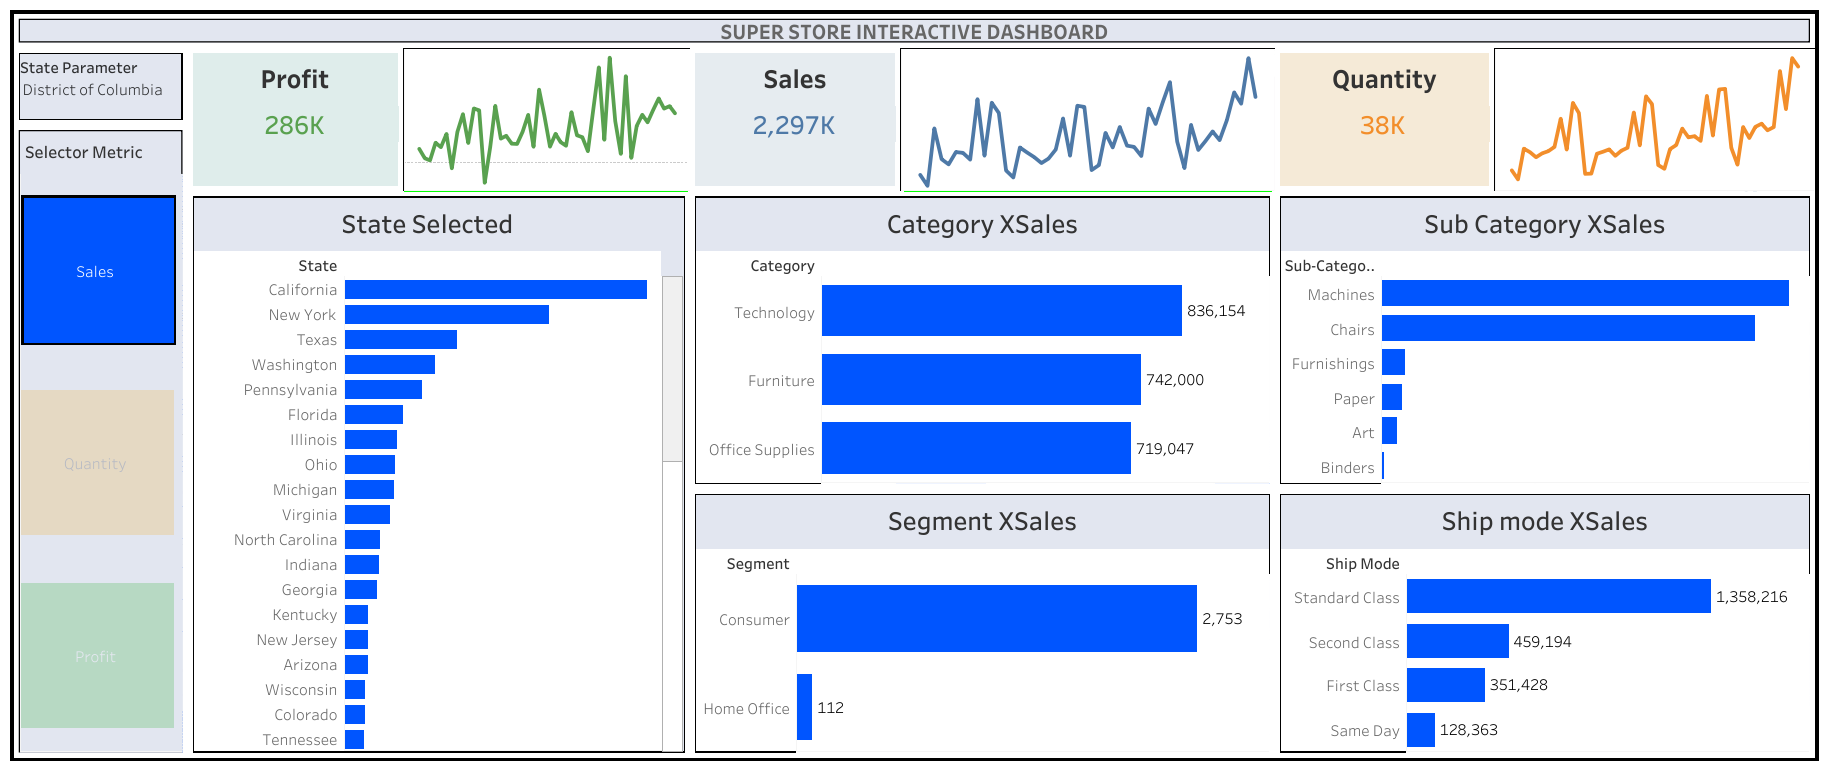

Layout of this report page (visuals, bound fields, positions):
{"tool":"tableau","page":{"name":"Dashboard 1","canvas":[1000,1000],"units":"permille","ordinal":0},"visuals":[{"type":"text","box":[6.6,13.7,986.7,44.9]},{"type":"parameter","param":"[Parameters].[State Parameter]","box":[6.6,58.6,95.1,100]},{"type":"worksheet","title":"Profit","mark":"Automatic","box":[101.8,58.6,118.1,187.7]},{"type":"worksheet","title":"Profit Analysis","mark":"Automatic","rows":["Profit"],"cols":["Order Date"],"box":[219.8,58.6,157.5,187.7]},{"type":"worksheet","title":"Sales","mark":"Automatic","box":[377.3,58.6,114.5,187.7]},{"type":"worksheet","title":"Sales Analysis","mark":"Automatic","rows":["Sales"],"cols":["Order Date"],"box":[491.8,58.6,205.8,187.7]},{"type":"worksheet","title":"Quantity","mark":"Automatic","box":[697.6,58.6,120,187.7]},{"type":"worksheet","title":"Quantity Analysis","mark":"Automatic","rows":["Quantity"],"cols":["Order Date"],"box":[817.7,58.6,175.7,187.7]},{"type":"worksheet","title":"Selector Metric","mark":"Automatic","cols":["Calculation_429530840690499587"],"box":[6.6,158.6,95.1,827.7]},{"type":"worksheet","title":"State Selected","mark":"Automatic","rows":["State"],"cols":["Calculation_429530840681959424"],"box":[101.8,246.3,275.4,740]},{"type":"worksheet","title":"Category X","mark":"Automatic","rows":["Category"],"cols":["Calculation_429530840681959424"],"box":[377.2,246.3,320.4,389.1]},{"type":"worksheet","title":"Sub Category X","mark":"Automatic","rows":["Sub-Category"],"cols":["Calculation_429530840681959424"],"box":[697.6,246.3,295.8,389.1]},{"type":"worksheet","title":"Segment X","mark":"Automatic","rows":["Segment"],"cols":["Calculation_429530840681959424"],"box":[377.2,635.4,320.4,350.9]},{"type":"worksheet","title":"Ship mode X","mark":"Automatic","rows":["Ship Mode"],"cols":["Calculation_429530840681959424"],"box":[697.6,635.4,295.8,350.9]}]}

Visuals, with their boxes on the dashboard's canvas, which has no fixed pixel size, in thousandths of its width and height (x1, y1, x2, y2). These are canvas units, not pixel positions in the 1828x770 screenshot, which may show the page scaled, cropped or inside an application window:
text: <bbox>7, 14, 993, 59</bbox>
parameter: <bbox>7, 59, 102, 159</bbox>
"Profit" worksheet: <bbox>102, 59, 220, 246</bbox>
"Profit Analysis" worksheet: <bbox>220, 59, 377, 246</bbox>
"Sales" worksheet: <bbox>377, 59, 492, 246</bbox>
"Sales Analysis" worksheet: <bbox>492, 59, 698, 246</bbox>
"Quantity" worksheet: <bbox>698, 59, 818, 246</bbox>
"Quantity Analysis" worksheet: <bbox>818, 59, 993, 246</bbox>
"Selector Metric" worksheet: <bbox>7, 159, 102, 986</bbox>
"State Selected" worksheet: <bbox>102, 246, 377, 986</bbox>
"Category X" worksheet: <bbox>377, 246, 698, 635</bbox>
"Sub Category X" worksheet: <bbox>698, 246, 993, 635</bbox>
"Segment X" worksheet: <bbox>377, 635, 698, 986</bbox>
"Ship mode X" worksheet: <bbox>698, 635, 993, 986</bbox>
